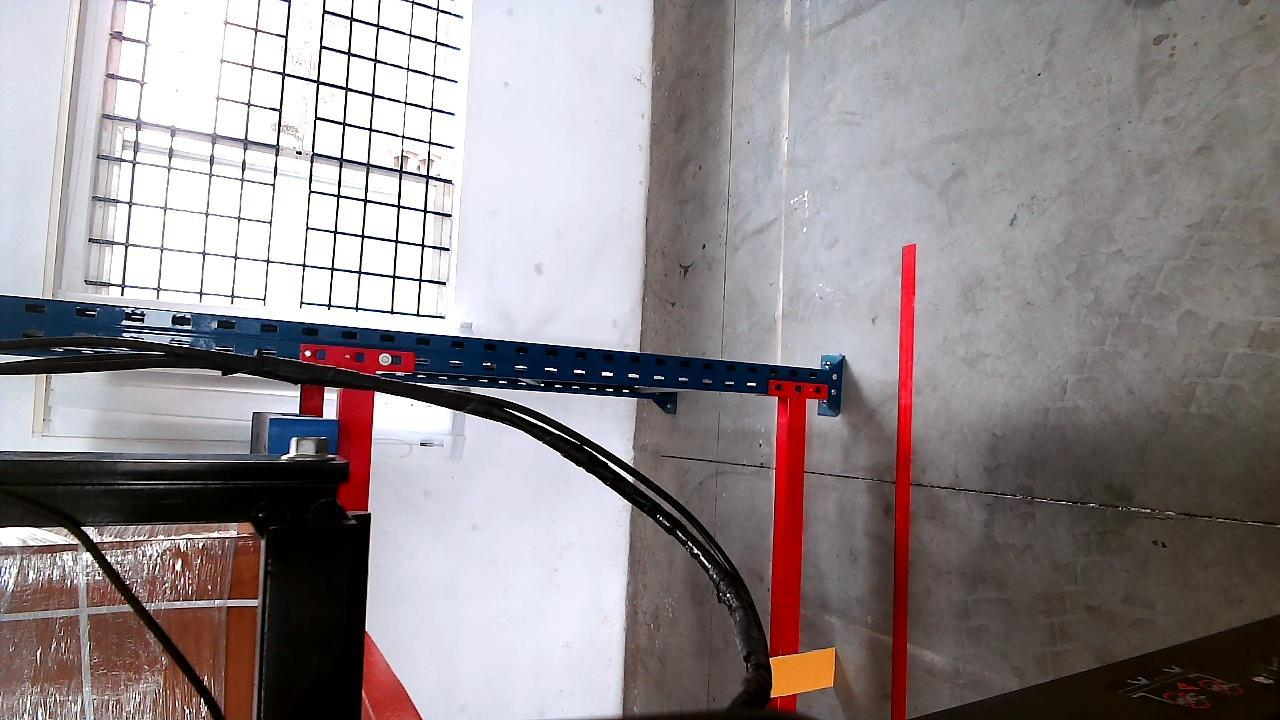red_line: (890, 241, 917, 718)
